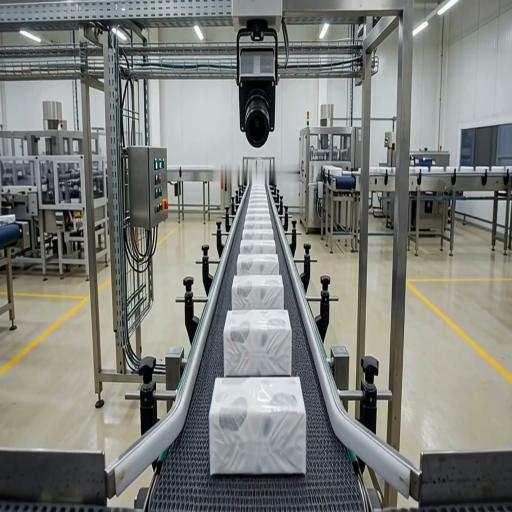good: (209, 377, 306, 474), (224, 310, 291, 376), (232, 276, 284, 311), (237, 255, 279, 275), (240, 240, 275, 254), (243, 228, 274, 239), (244, 220, 271, 229), (246, 211, 270, 221), (247, 206, 269, 214), (249, 198, 267, 205)
